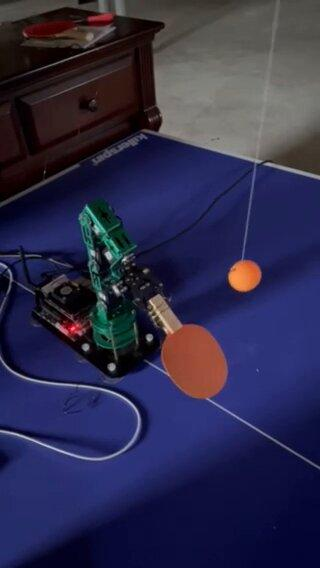oball: (227, 259, 260, 292)
